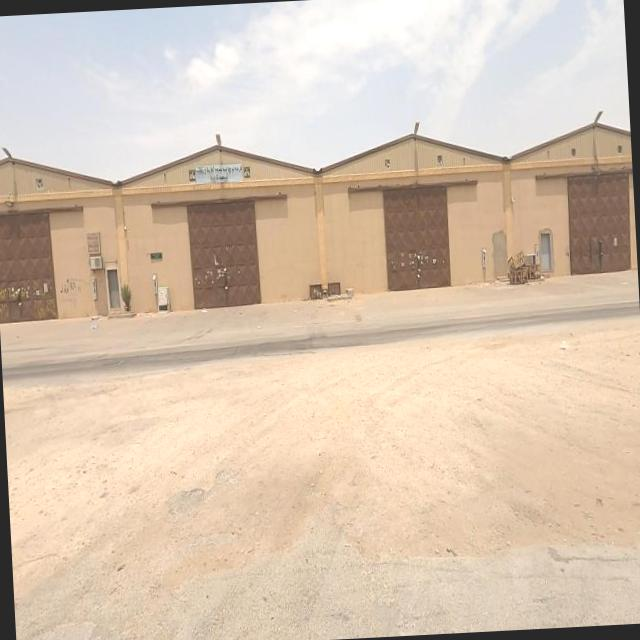debris: (469, 232, 571, 318), (313, 261, 362, 320), (300, 262, 334, 326), (189, 282, 224, 342), (80, 287, 112, 340), (553, 327, 585, 365)
